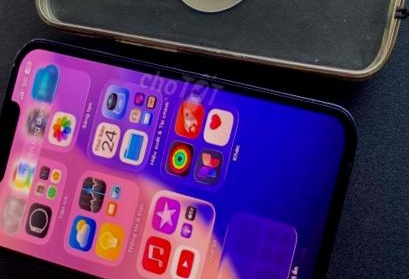scratch: (292, 136, 366, 279), (0, 34, 37, 257)
